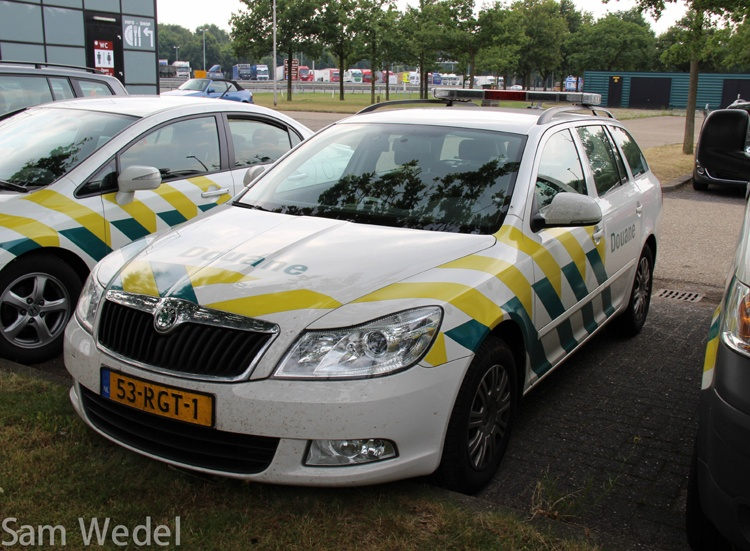number_plate: (99, 367, 216, 423)
